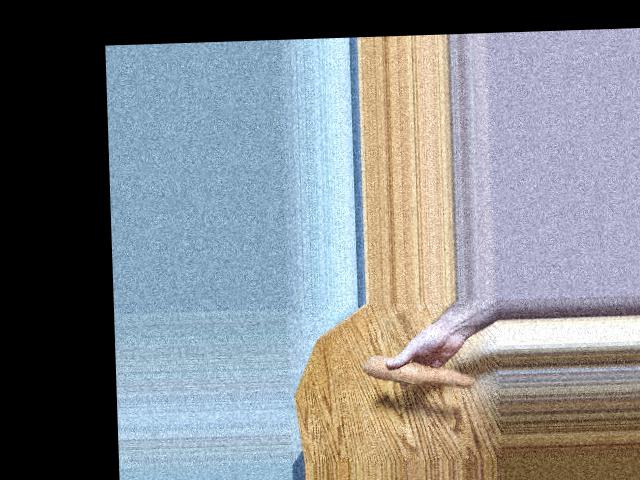sweet_potato: (364, 361, 474, 386)
